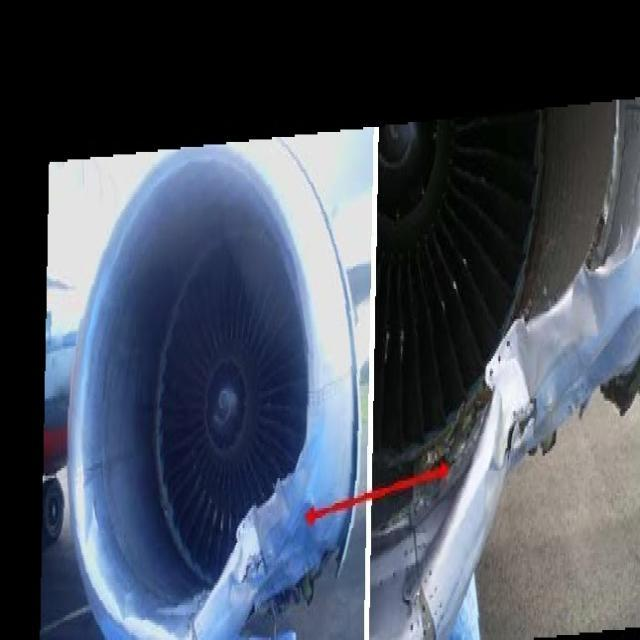dent: (501, 330, 541, 415), (575, 275, 609, 340)
